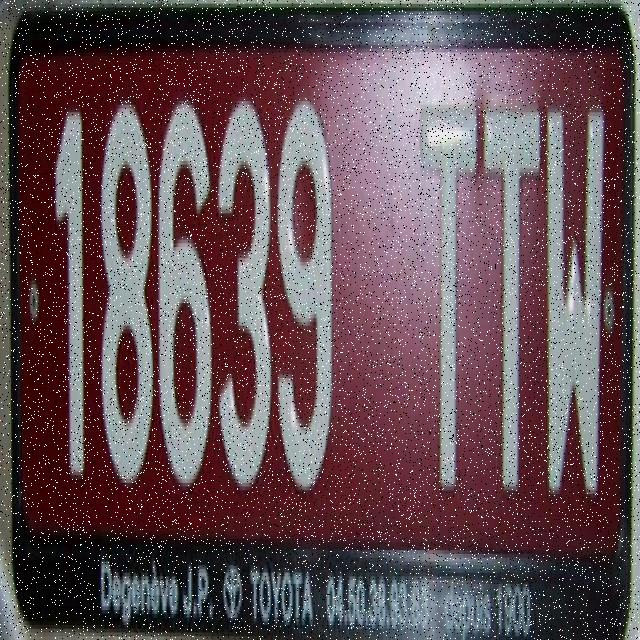licenseplate: (1, 0, 638, 640)
